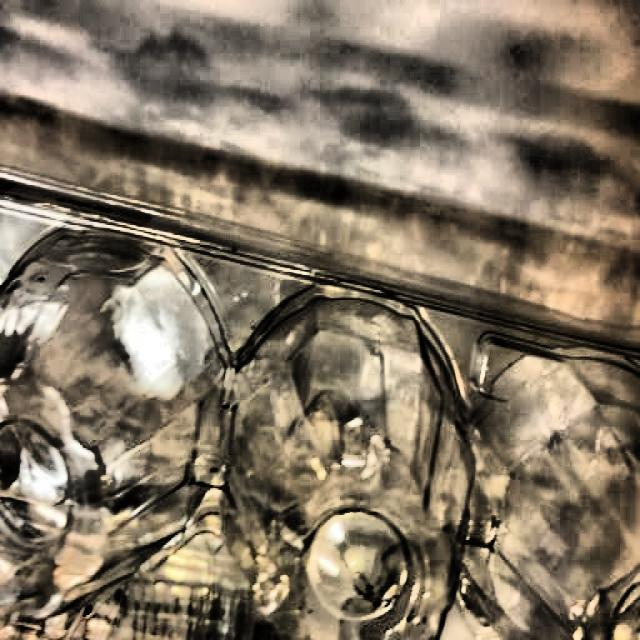plastic: (1, 49, 640, 640)
